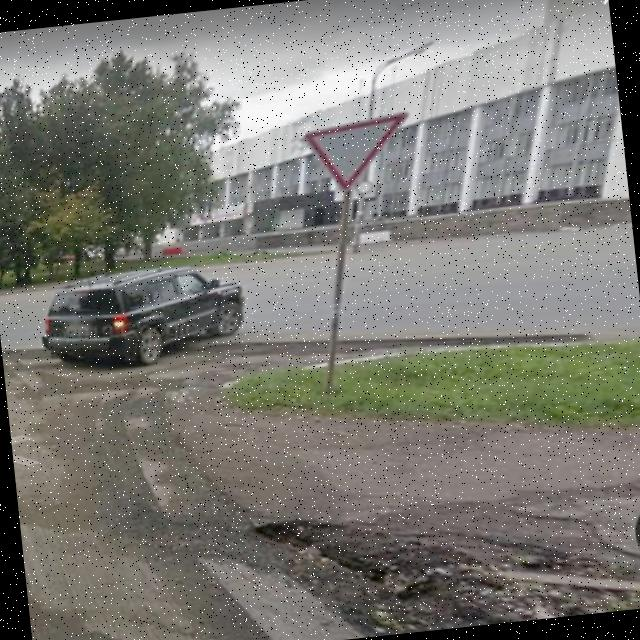Ustap pierwszenstwa: (292, 98, 424, 204)
